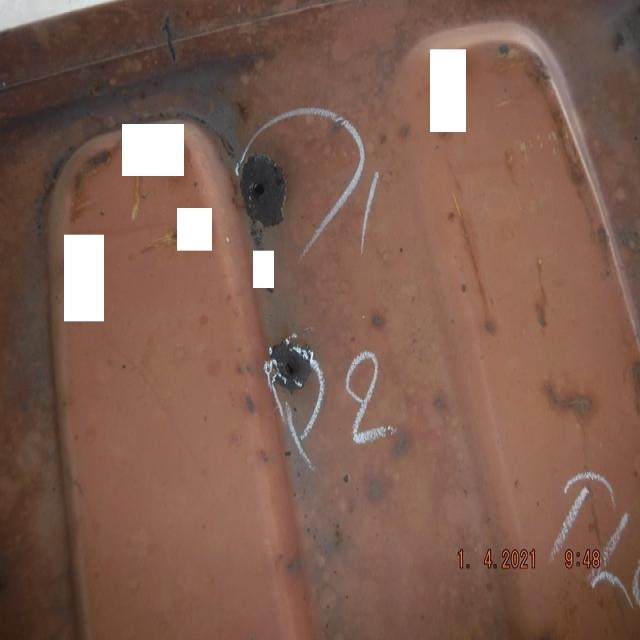hole: (241, 152, 290, 233), (269, 338, 314, 392)
